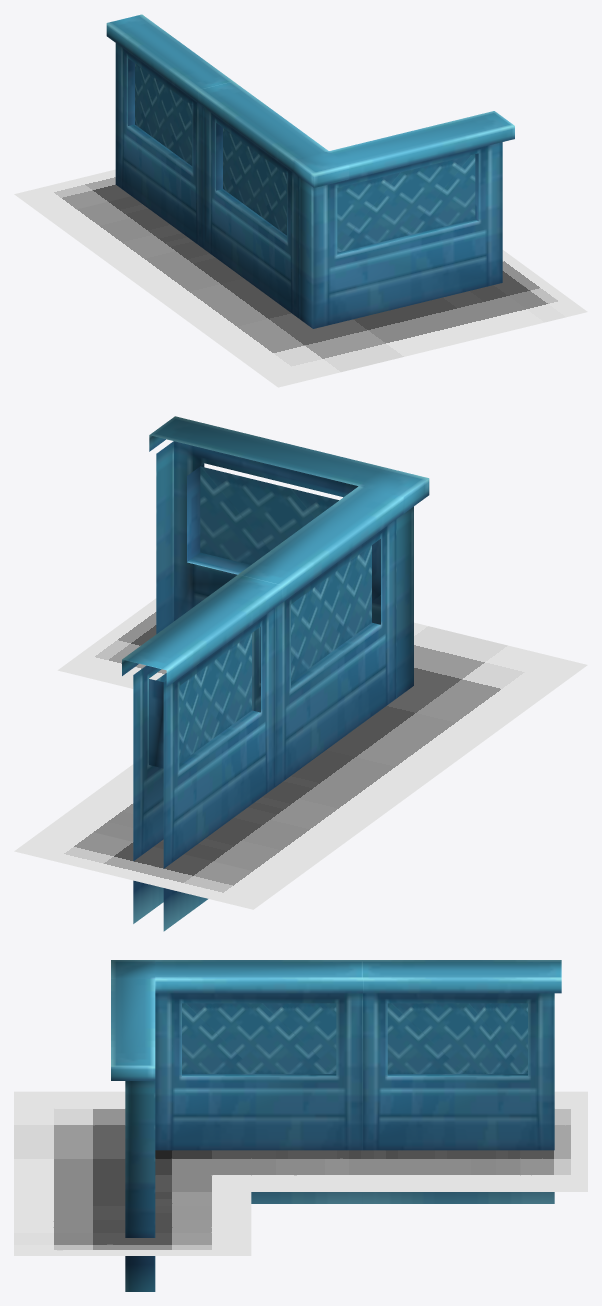
The model's file is int_fence_12.dae.
The picture shows the model from 3 angles, top to bottom: view 1: azimuth 30°, elevation 25°; view 2: azimuth 150°, elevation 25°; view 3: azimuth 270°, elevation 25°; orthographic projection. The views are drawn at different scales.
Visible parts, largest first — view 1: int_fence_12; view 2: int_fence_12; view 3: int_fence_12.
Boxes of the visible parts, bbox=[...] form: int_fence_12: bbox=[14, 14, 587, 387]; int_fence_12: bbox=[14, 416, 587, 931]; int_fence_12: bbox=[14, 960, 587, 1291].
Bounding box in the file's own units: 46.05 × 29.84 × 68.
Materials: 2 (2 with a texture image).
